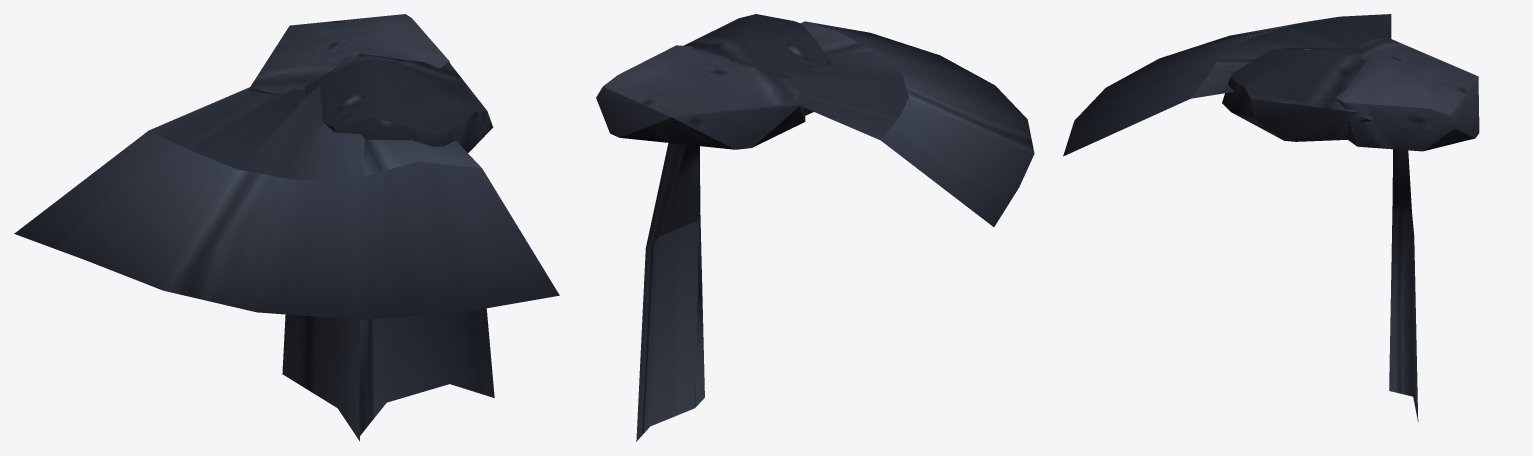
Rendered from cave_pool_rim_corner.glb.
3 renders of one model, left to right at view 1: azimuth 30°, elevation 25°; view 2: azimuth 150°, elevation 25°; view 3: azimuth 270°, elevation 25°, orthographic. The views are drawn at different scales.
Visible parts, largest first — view 1: cave_pool_rim_corner; view 2: cave_pool_rim_corner; view 3: cave_pool_rim_corner.
Part boxes in pixels (x1,y1,x2,y2): cave_pool_rim_corner: [14, 14, 559, 441]; cave_pool_rim_corner: [596, 14, 1034, 441]; cave_pool_rim_corner: [1063, 14, 1479, 422].
Bounding box in the file's own units: 0.5 × 0.4131 × 0.5.
1 material, 1 textured.
